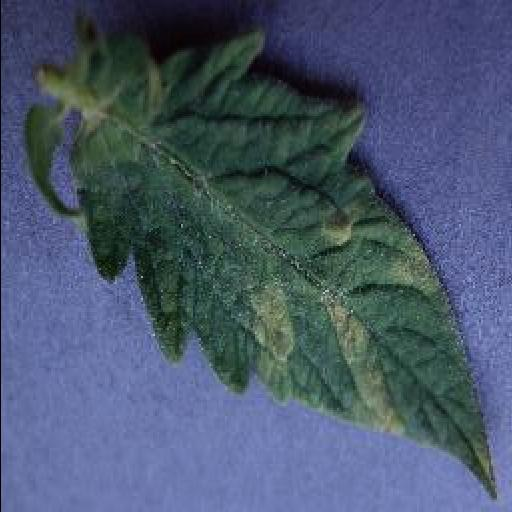disease_tomato: (69, 30, 499, 498)
